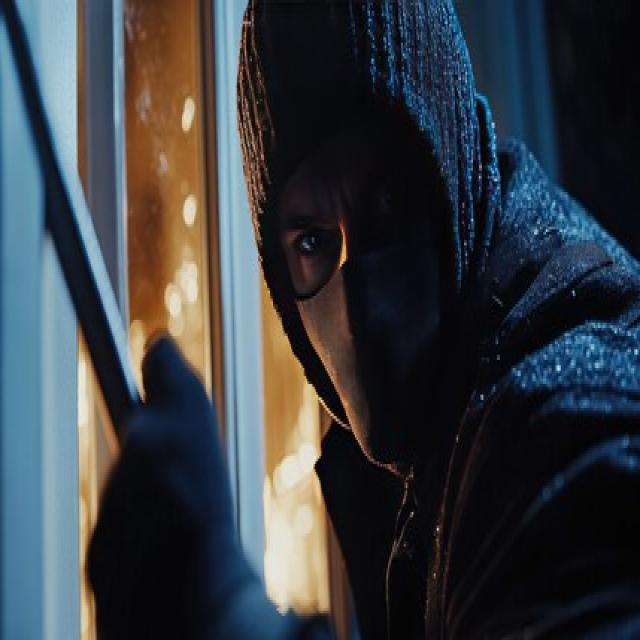handguns: (37, 1, 639, 640), (251, 1, 639, 640), (86, 331, 336, 640)
